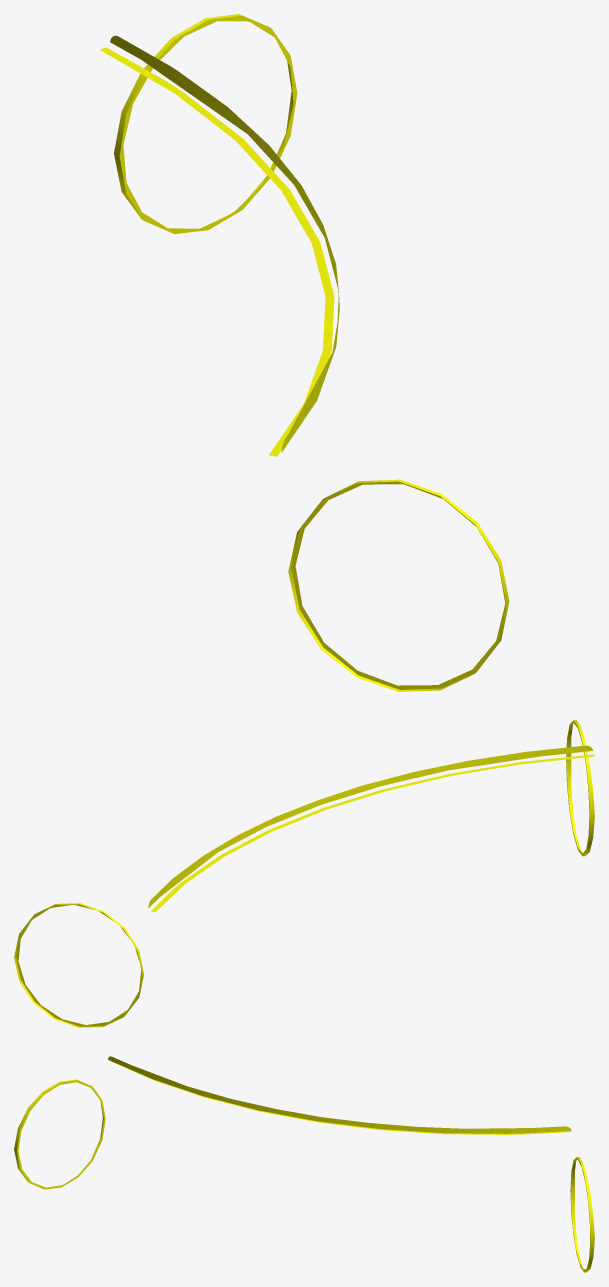
The model's file is Pfen3DE45D4A9opp_138_Pfen3DE45D4A9opp_Mesh_4.obj.
3 views of the same model, one above another, from view 1: azimuth 30°, elevation 25°; view 2: azimuth 150°, elevation 25°; view 3: azimuth 270°, elevation 25° (orthographic). The views are drawn at different scales.
Visible parts, largest first — view 1: Mesh_Diffuse_6; view 2: Mesh_Diffuse_6; view 3: Mesh_Diffuse_6.
Part boxes in pixels (left/top/right/bottom): Mesh_Diffuse_6: left=100, top=14, right=509, bottom=691; Mesh_Diffuse_6: left=14, top=720, right=594, bottom=1027; Mesh_Diffuse_6: left=14, top=1056, right=594, bottom=1272.
Bounding box in the file's own units: 0.131 × 0.057 × 0.2603.
